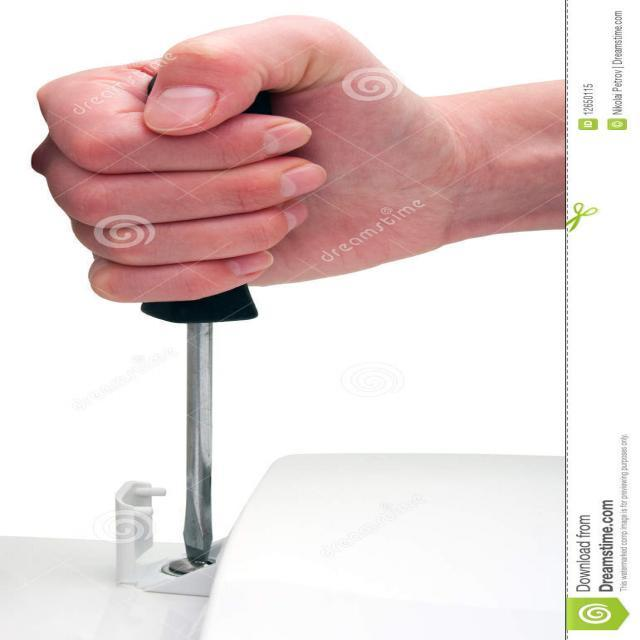screwdriver: (138, 63, 261, 571)
